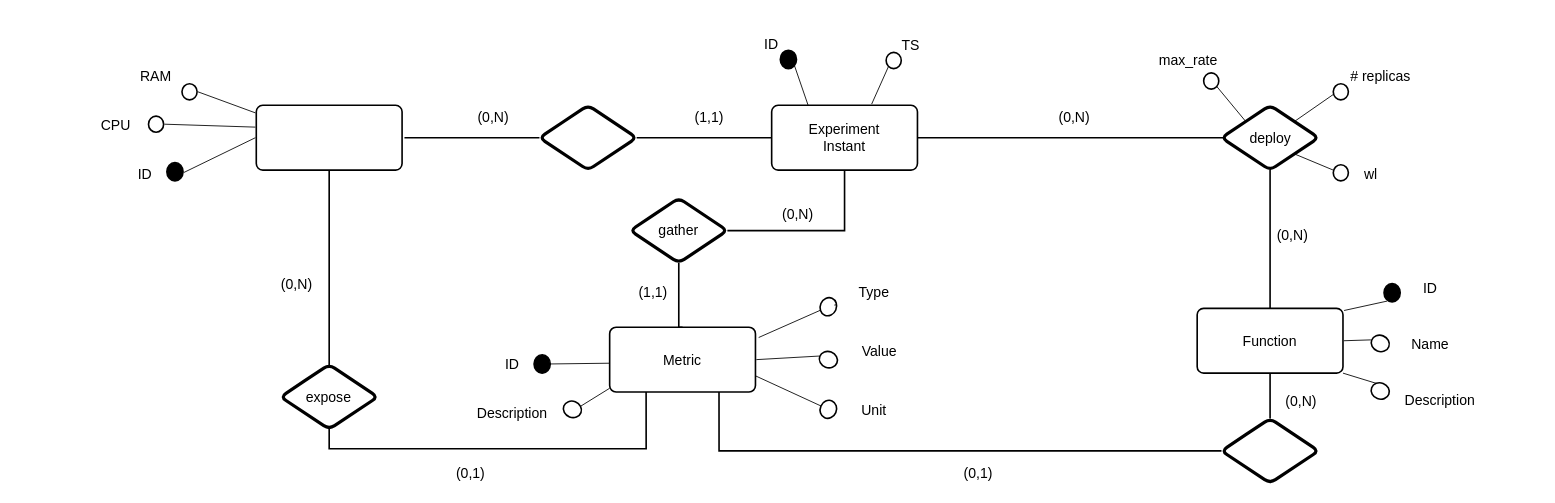
Image size: 1555x503. Some labels were removed from this diagram. Each missing label, with the centre of its shape:
"belong" goes at point 1269,450.
"has" goes at point 587,137.
"Node" goes at point 328,137.
